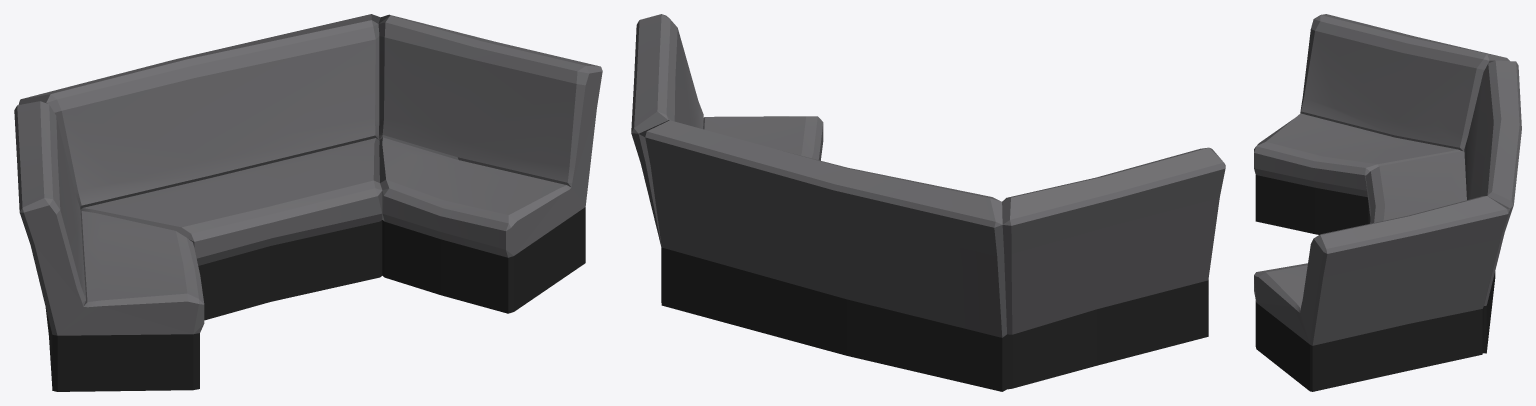
Rendered from SM_Prop_StripClub_Sofa_01_Modified.fbx.
3 views of the same model, side by side, from view 1: azimuth 30°, elevation 25°; view 2: azimuth 150°, elevation 25°; view 3: azimuth 270°, elevation 25° (orthographic). The views are drawn at different scales.
Parts seen in each view (by area): view 1: SM_Prop_StripClub_Sofa_01; view 2: SM_Prop_StripClub_Sofa_01; view 3: SM_Prop_StripClub_Sofa_01.
Boxes of the visible parts, bbox=[...] form: SM_Prop_StripClub_Sofa_01: bbox=[14, 14, 602, 391]; SM_Prop_StripClub_Sofa_01: bbox=[631, 14, 1225, 391]; SM_Prop_StripClub_Sofa_01: bbox=[1254, 14, 1521, 391].
Size of the model in its own units: 305 by 95.72 by 146.
